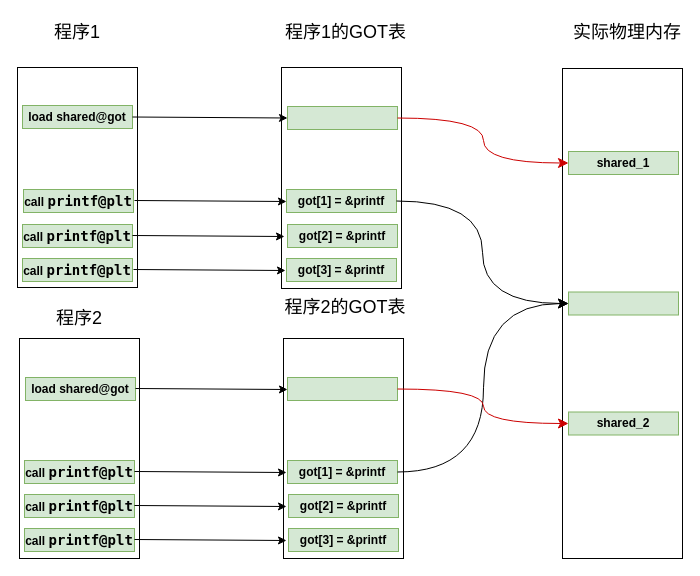
The diagram is 700 pixels wide and 576 high, and some of its shapes have lost their labels. The shapes that lost their labels are listed below. From the top down, each one's centre as x and y in pixels, then its label:
(342,118): got[0] = &shared
(623,303): printf
(342,388): got[0] = &printf
